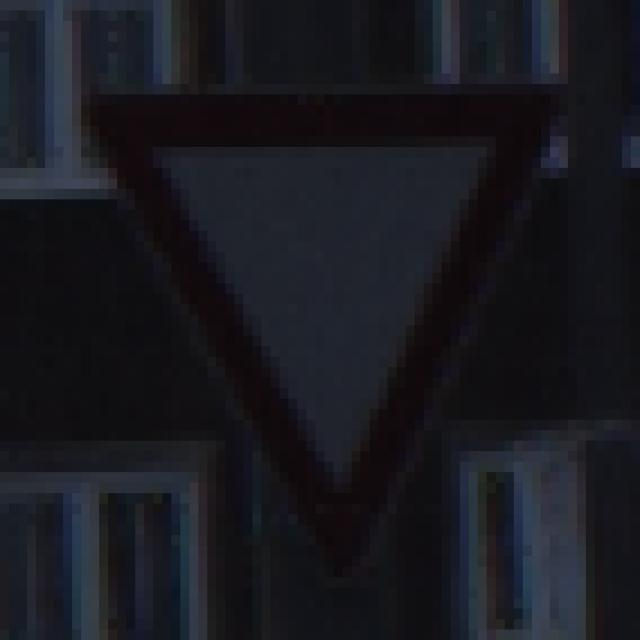Give Way: (64, 54, 587, 589)
